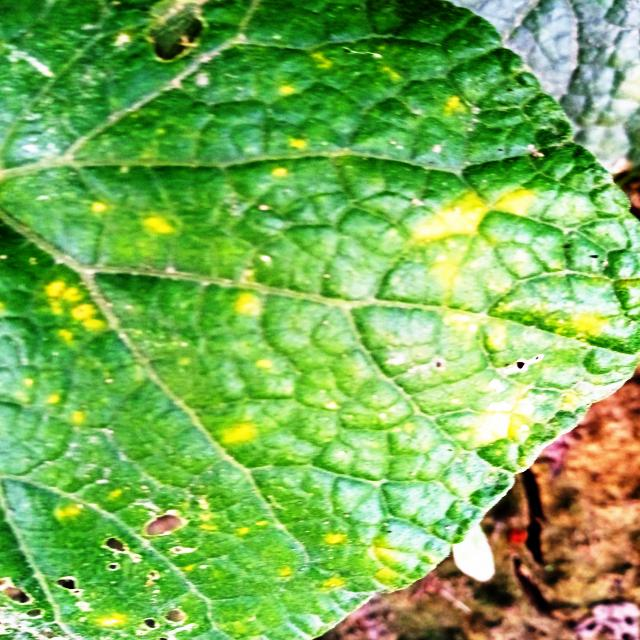Downy-Mildew: (0, 0, 638, 640)
